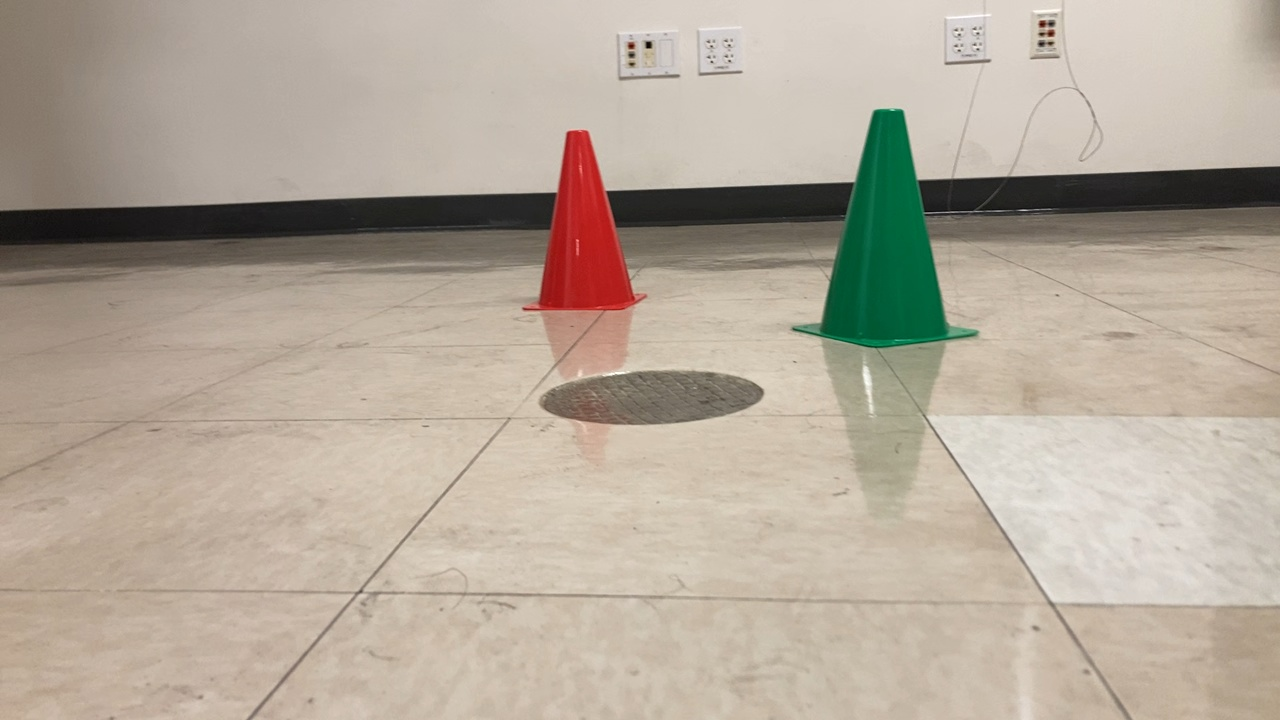green_cone: (784, 105, 992, 355)
red_cone: (517, 123, 653, 320)
